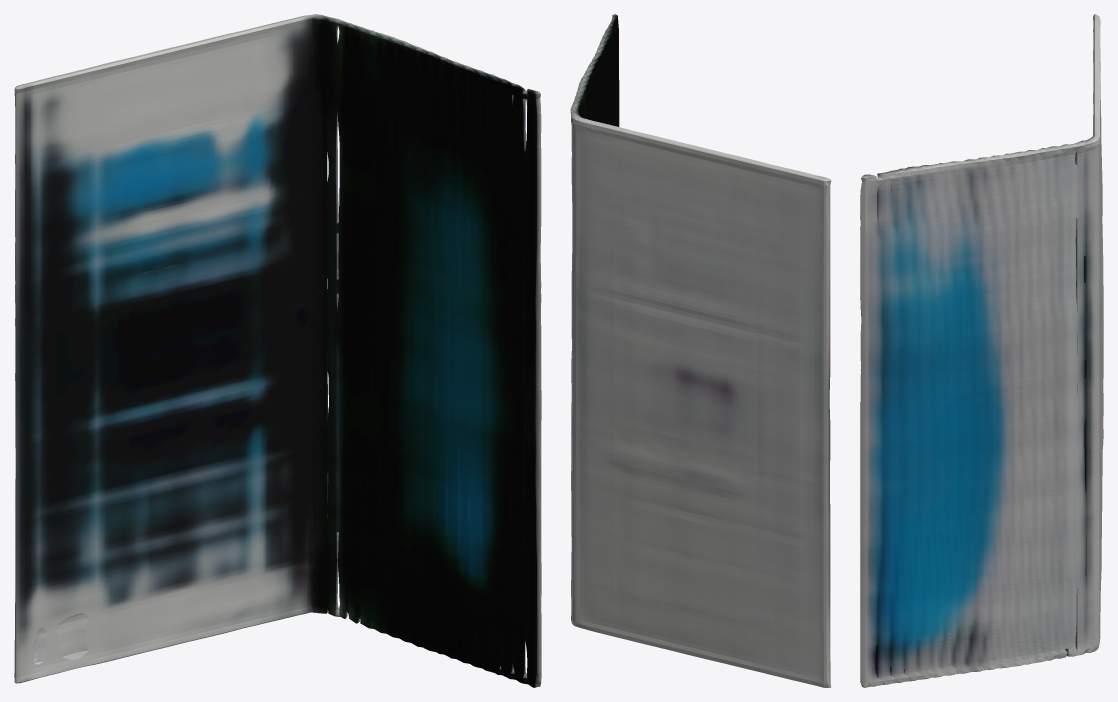
Rendered from Laptop_1749578333_glb.glb.
3 renders of one model, left to right at view 1: azimuth 30°, elevation 25°; view 2: azimuth 150°, elevation 25°; view 3: azimuth 270°, elevation 25°, orthographic. The views are drawn at different scales.
Visible parts, largest first — view 1: Laptop_1749578333.obj; view 2: Laptop_1749578333.obj; view 3: Laptop_1749578333.obj.
Boxes of the visible parts, left/top/right/bottom form: Laptop_1749578333.obj: left=14, top=14, right=541, bottom=687; Laptop_1749578333.obj: left=570, top=14, right=831, bottom=687; Laptop_1749578333.obj: left=860, top=14, right=1103, bottom=687.
Bounding box in the file's own units: 1.36 × 1.98 × 0.8536.
